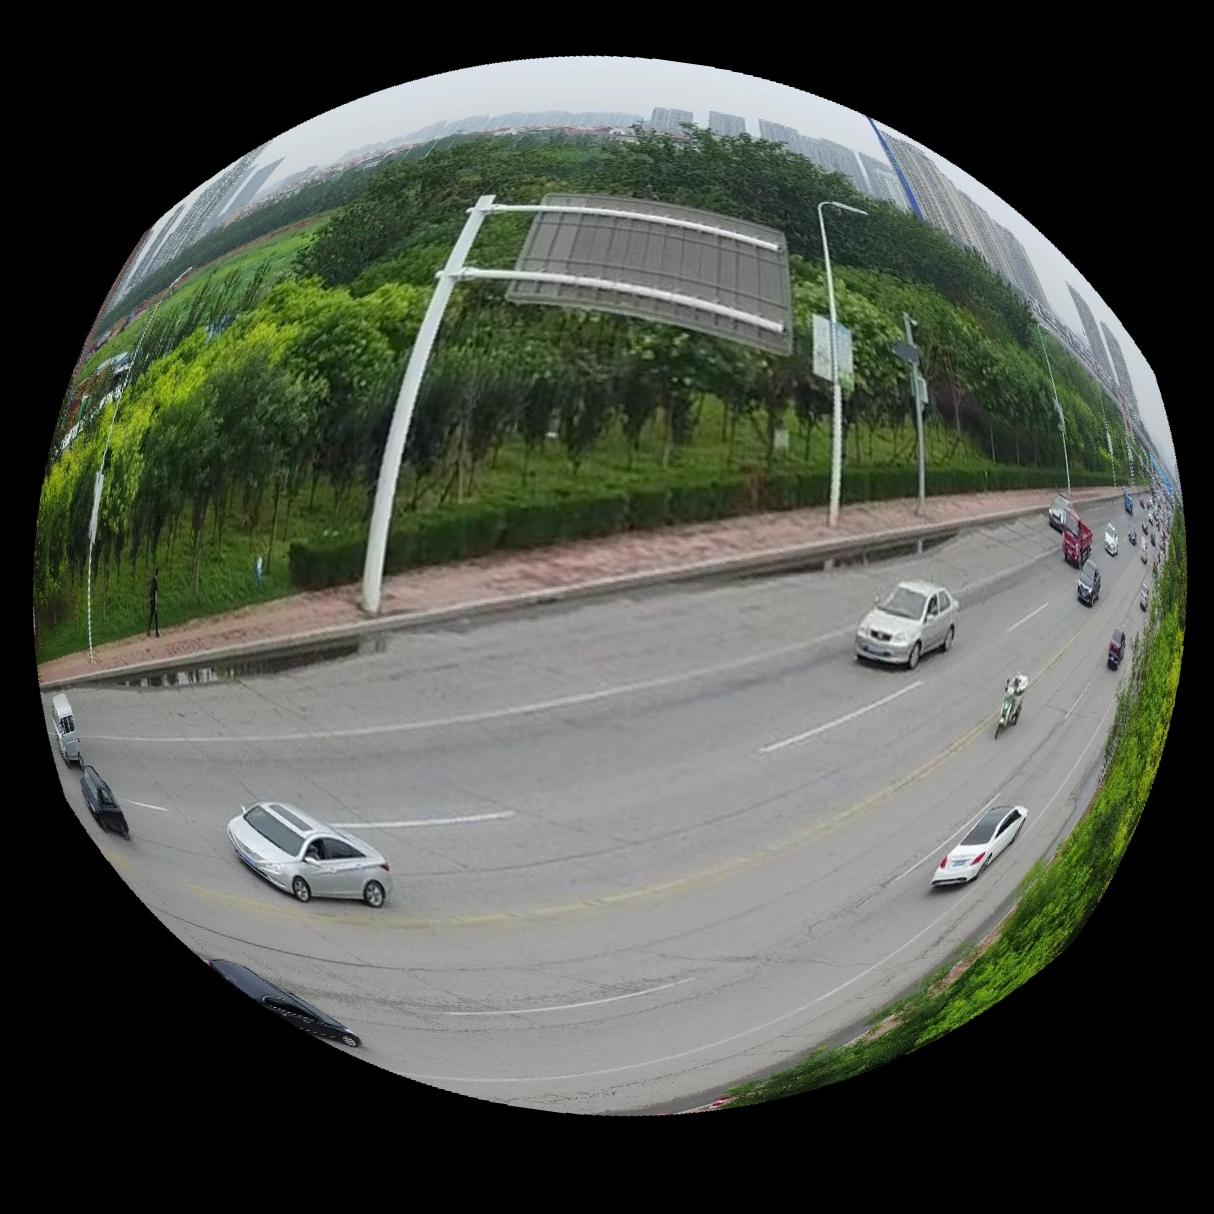cars: (226, 803, 391, 909), (208, 961, 359, 1048), (855, 580, 961, 669), (933, 806, 1028, 887), (78, 766, 127, 840), (49, 693, 82, 770), (995, 674, 1032, 739), (1078, 560, 1104, 607), (1107, 628, 1128, 671)
trees: (37, 110, 1153, 595), (725, 515, 1188, 1107)
